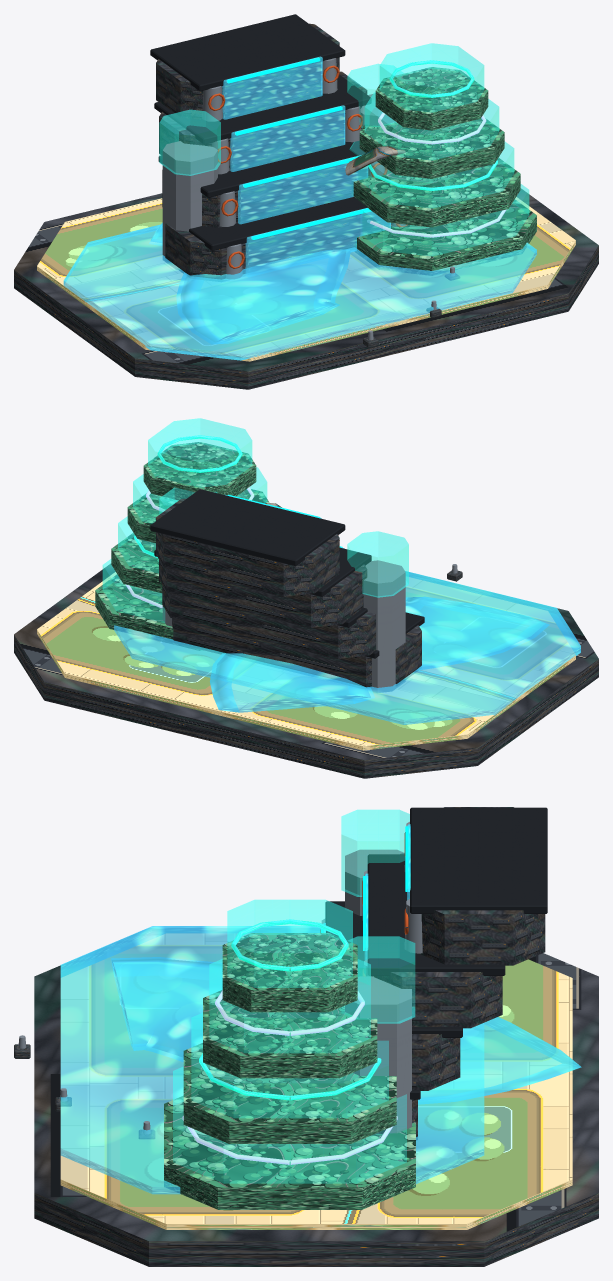
File: interior_setpiece_02_r1_03.glb
3 views of the same model, one above another, from view 1: azimuth 30°, elevation 25°; view 2: azimuth 150°, elevation 25°; view 3: azimuth 270°, elevation 25° (orthographic). The views are drawn at different scales.
Visible parts, largest first — view 1: Setpiece02_C03_water_river, Setpiece02_C03_cliff_basalt, Setpiece02_C03_promenade_paving, Setpiece02_C03_biome_canopy, Setpiece02_C03_glass_emerald, Setpiece02_C03_gunmetal, Setpiece02_C03_steel_machined, Setpiece02_C03_led_cyan, Setpiece02_C03_led_emerald, Setpiece02_C03_led_uv, Setpiece02_C03_accent_orange, Setpiece02_C03_copper_bridge; view 2: Setpiece02_C03_cliff_basalt, Setpiece02_C03_promenade_paving, Setpiece02_C03_water_river, Setpiece02_C03_glass_emerald, Setpiece02_C03_biome_canopy, Setpiece02_C03_gunmetal, Setpiece02_C03_steel_machined, Setpiece02_C03_led_emerald; view 3: Setpiece02_C03_promenade_paving, Setpiece02_C03_biome_canopy, Setpiece02_C03_cliff_basalt, Setpiece02_C03_glass_emerald, Setpiece02_C03_water_river, Setpiece02_C03_gunmetal, Setpiece02_C03_steel_machined, Setpiece02_C03_led_emerald, Setpiece02_C03_led_uv, Setpiece02_C03_led_cyan.
Part boxes in pixels (left/top/right/bottom): Setpiece02_C03_water_river: left=63, top=56, right=536, bottom=360; Setpiece02_C03_cliff_basalt: left=14, top=23, right=598, bottom=389; Setpiece02_C03_promenade_paving: left=37, top=197, right=575, bottom=361; Setpiece02_C03_biome_canopy: left=352, top=67, right=536, bottom=275; Setpiece02_C03_glass_emerald: left=159, top=43, right=529, bottom=256; Setpiece02_C03_gunmetal: left=150, top=14, right=371, bottom=250; Setpiece02_C03_steel_machined: left=162, top=58, right=455, bottom=340; Setpiece02_C03_led_cyan: left=227, top=57, right=371, bottom=239; Setpiece02_C03_led_emerald: left=368, top=60, right=497, bottom=190; Setpiece02_C03_led_uv: left=367, top=112, right=506, bottom=237; Setpiece02_C03_accent_orange: left=208, top=65, right=408, bottom=268; Setpiece02_C03_copper_bridge: left=345, top=146, right=405, bottom=175; Setpiece02_C03_cliff_basalt: left=14, top=498, right=598, bottom=778; Setpiece02_C03_promenade_paving: left=37, top=572, right=575, bottom=750; Setpiece02_C03_water_river: left=114, top=494, right=580, bottom=724; Setpiece02_C03_glass_emerald: left=102, top=418, right=408, bottom=622; Setpiece02_C03_biome_canopy: left=95, top=442, right=269, bottom=650; Setpiece02_C03_gunmetal: left=150, top=489, right=424, bottom=658; Setpiece02_C03_steel_machined: left=162, top=560, right=457, bottom=692; Setpiece02_C03_led_emerald: left=134, top=435, right=242, bottom=558; Setpiece02_C03_promenade_paving: left=60, top=933, right=572, bottom=1229; Setpiece02_C03_biome_canopy: left=164, top=933, right=415, bottom=1209; Setpiece02_C03_cliff_basalt: left=14, top=807, right=598, bottom=1266; Setpiece02_C03_glass_emerald: left=173, top=809, right=415, bottom=1183; Setpiece02_C03_water_river: left=60, top=824, right=581, bottom=1194; Setpiece02_C03_gunmetal: left=325, top=807, right=547, bottom=1099; Setpiece02_C03_steel_machined: left=18, top=821, right=422, bottom=1133; Setpiece02_C03_led_emerald: left=199, top=919, right=381, bottom=1100; Setpiece02_C03_led_uv: left=182, top=990, right=397, bottom=1164; Setpiece02_C03_led_cyan: left=320, top=826, right=410, bottom=950.
Bounding box in the file's own units: 42 × 17.55 × 33.15.
Materials: 13 (13 with a texture image).
